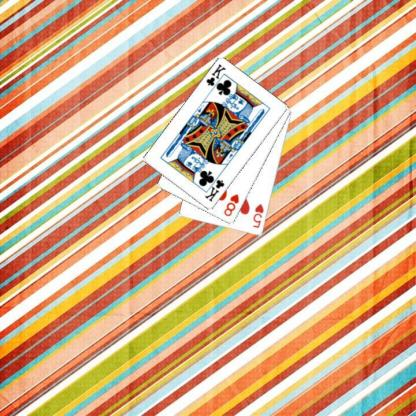5H: (250, 202, 265, 229)
8H: (222, 192, 240, 218)
KC: (203, 62, 227, 93), (202, 172, 225, 203)
